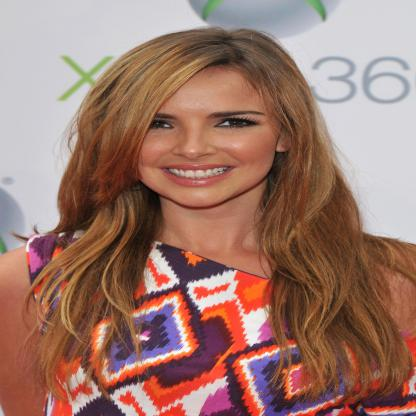long-hair: (34, 209, 383, 244)
